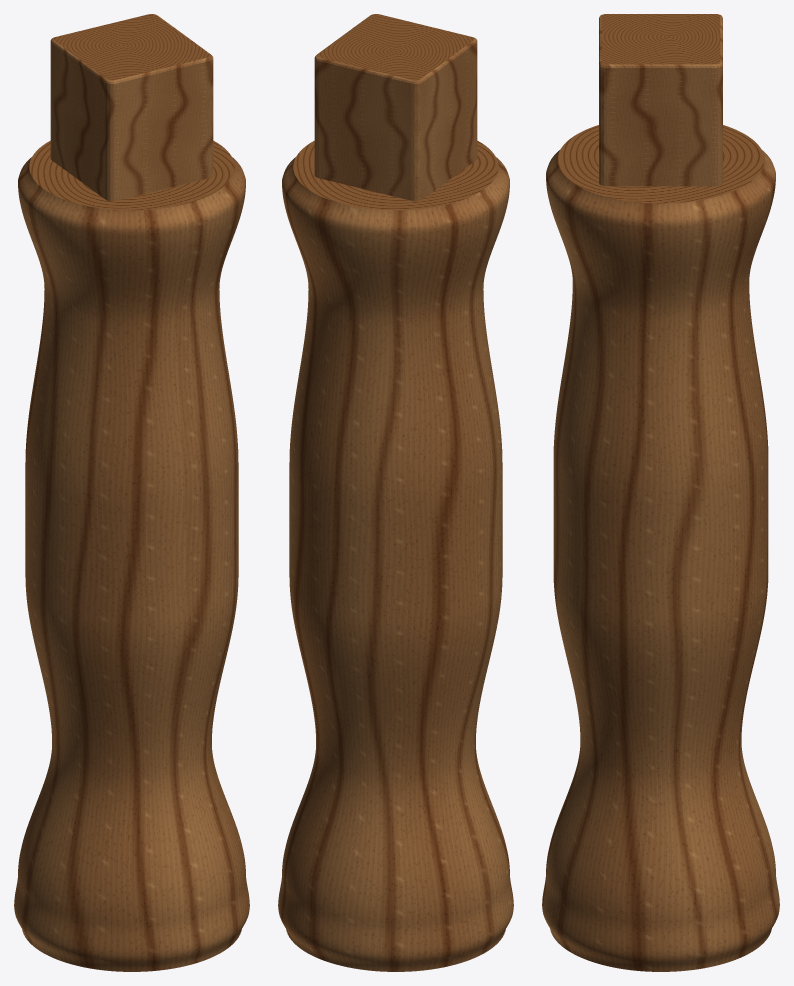
File: cairnpine_handle.glb
The picture shows the model from 3 angles, left to right: view 1: azimuth 30°, elevation 25°; view 2: azimuth 150°, elevation 25°; view 3: azimuth 270°, elevation 25°; orthographic projection.
Visible parts, largest first — view 1: oak worked longitudinal grain, oak endgrain on both sawn ends; view 2: oak worked longitudinal grain, oak endgrain on both sawn ends; view 3: oak worked longitudinal grain, oak endgrain on both sawn ends.
Part boxes in pixels (left/top/right/bottom): oak worked longitudinal grain: left=14, top=14, right=249, bottom=971; oak endgrain on both sawn ends: left=29, top=14, right=234, bottom=210; oak worked longitudinal grain: left=278, top=14, right=513, bottom=971; oak endgrain on both sawn ends: left=293, top=14, right=498, bottom=210; oak worked longitudinal grain: left=542, top=14, right=779, bottom=971; oak endgrain on both sawn ends: left=557, top=14, right=764, bottom=203.
Size of the model in its own units: 0.062 by 0.2547 by 0.062.
Materials: 2 (2 with a texture image).
